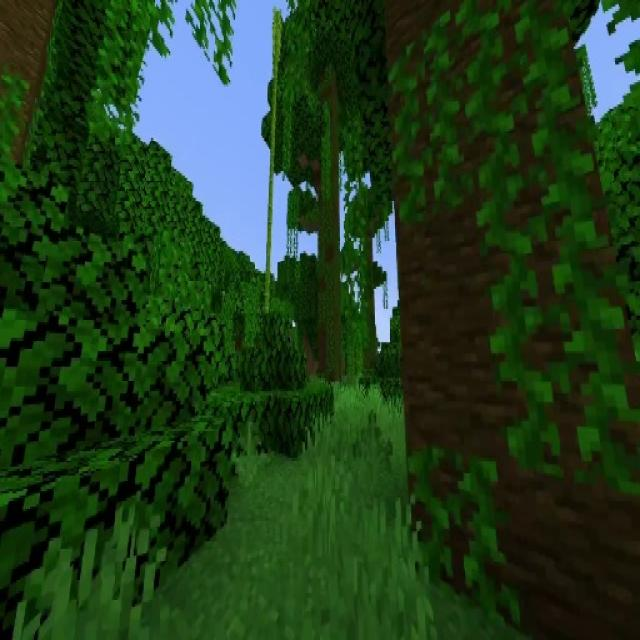jungle: (262, 38, 373, 381), (346, 185, 396, 367)
jungle_log: (379, 0, 640, 640), (316, 189, 342, 378)
